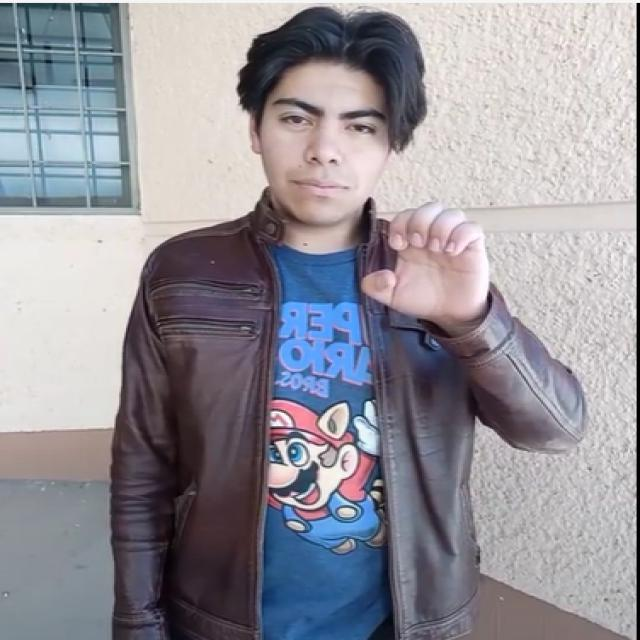E: (351, 201, 508, 335)
